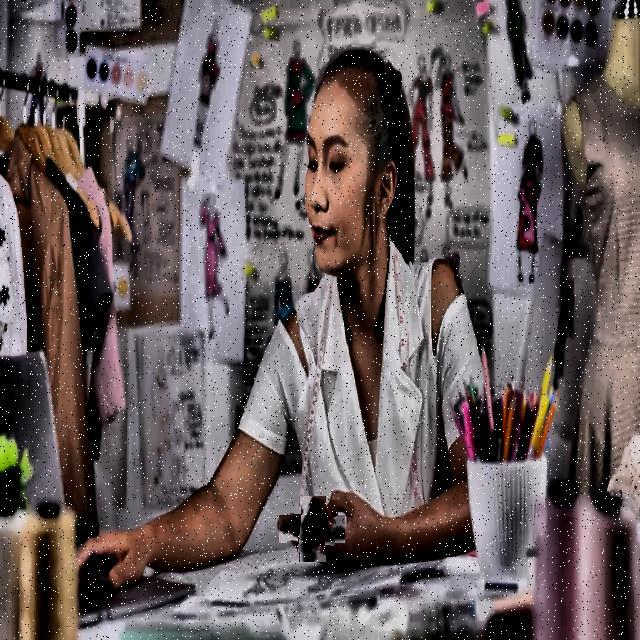Phone: (287, 505, 337, 554)
